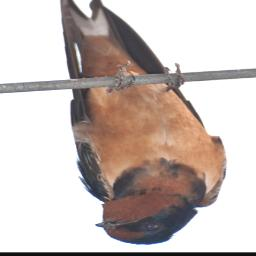Swallow: (44, 0, 229, 246)
